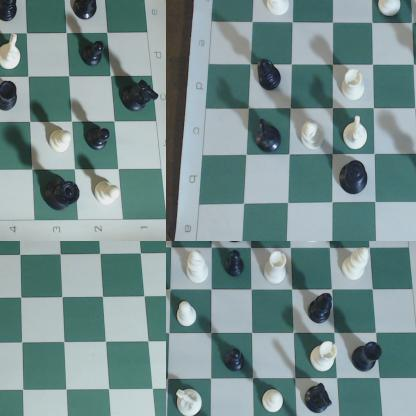black-bishop: (255, 59, 284, 94), (308, 290, 335, 324), (1, 1, 22, 27)
black-king: (341, 162, 369, 200)
black-knight: (122, 78, 162, 116), (254, 115, 284, 157), (304, 382, 332, 414), (75, 1, 105, 27)
black-pawn: (86, 123, 113, 154), (224, 248, 248, 278), (224, 349, 247, 373)
black-queen: (41, 177, 82, 216)
black-rook: (353, 340, 383, 374), (1, 80, 21, 117)
white-bishop: (342, 247, 372, 282), (299, 118, 330, 151), (186, 249, 211, 285), (263, 1, 294, 22)
white-knight: (342, 114, 373, 154), (1, 32, 25, 72), (176, 389, 205, 416)
white-pawn: (45, 126, 71, 154), (96, 180, 121, 205), (177, 302, 199, 329), (263, 390, 285, 416)
white-rook: (341, 67, 367, 106), (312, 340, 340, 373), (266, 252, 289, 285), (375, 1, 407, 20)
